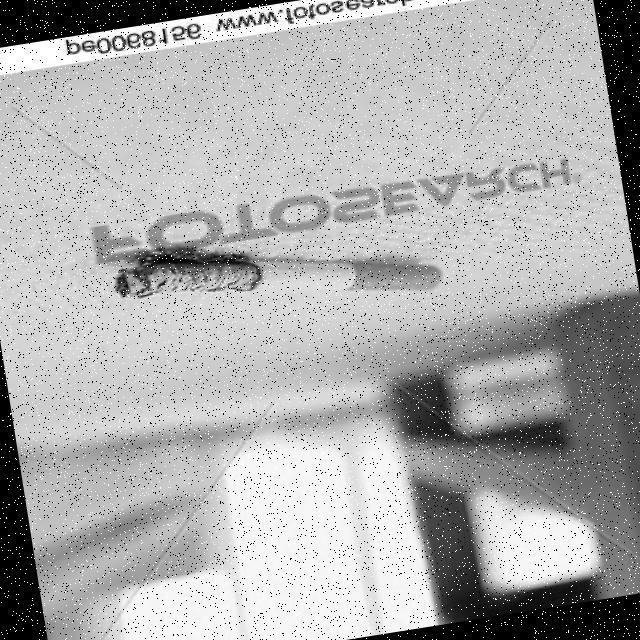cigarette: (94, 198, 452, 350)
